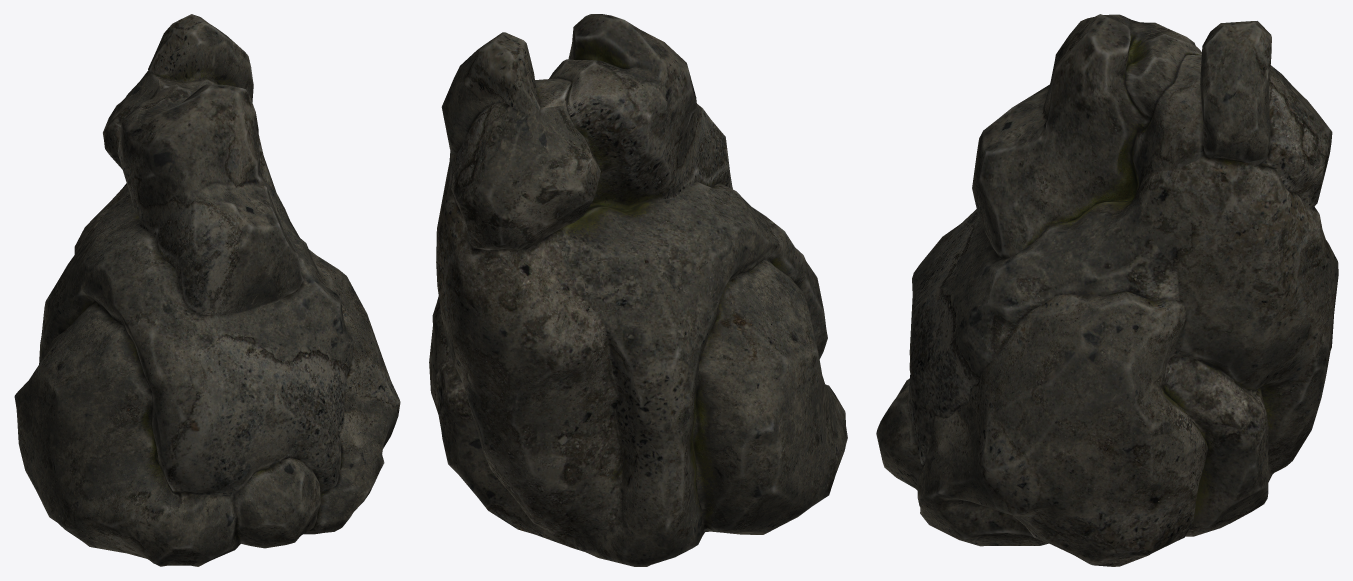
The model's file is cave_rocks_medium_02.dae.
The picture shows the model from 3 angles, left to right: view 1: azimuth 30°, elevation 25°; view 2: azimuth 150°, elevation 25°; view 3: azimuth 270°, elevation 25°; orthographic projection. The views are drawn at different scales.
Parts seen in each view (by area): view 1: low; view 2: low; view 3: low.
Part boxes in pixels (x1,y1,x2,y2): low: [14, 14, 400, 566]; low: [429, 14, 847, 566]; low: [876, 14, 1338, 566].
Size of the model in its own units: 1.5 by 2 by 1.62.
